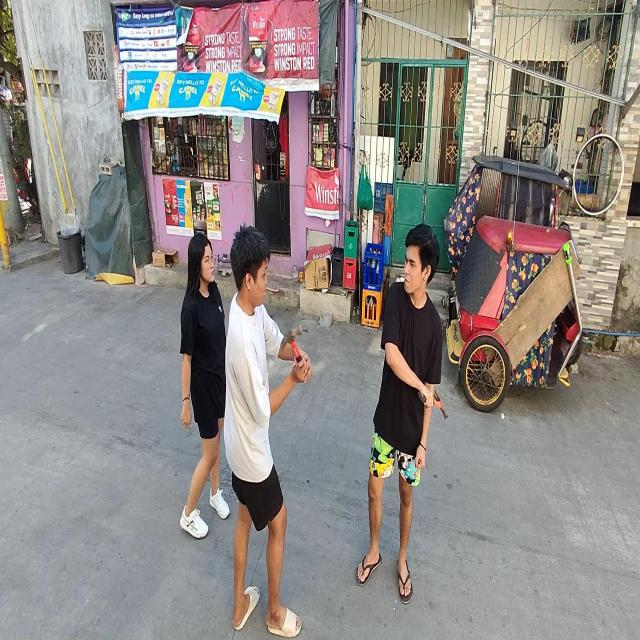hammer: (418, 389, 448, 420), (280, 325, 302, 363)
